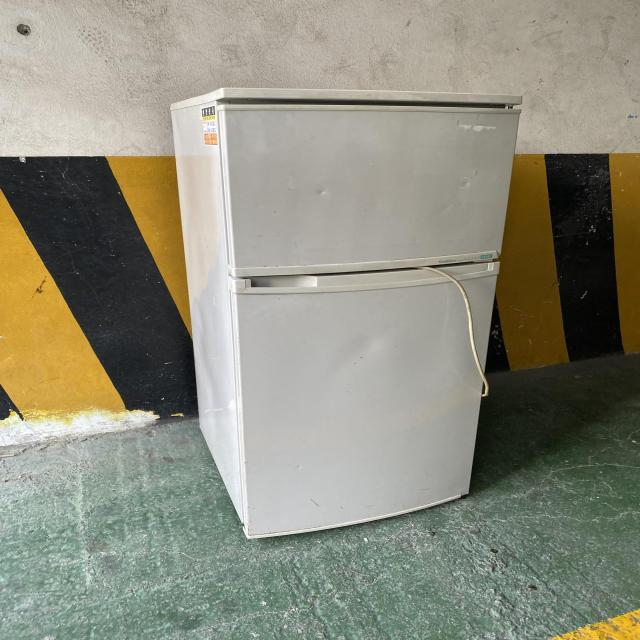refrigerator: (162, 85, 524, 542)
